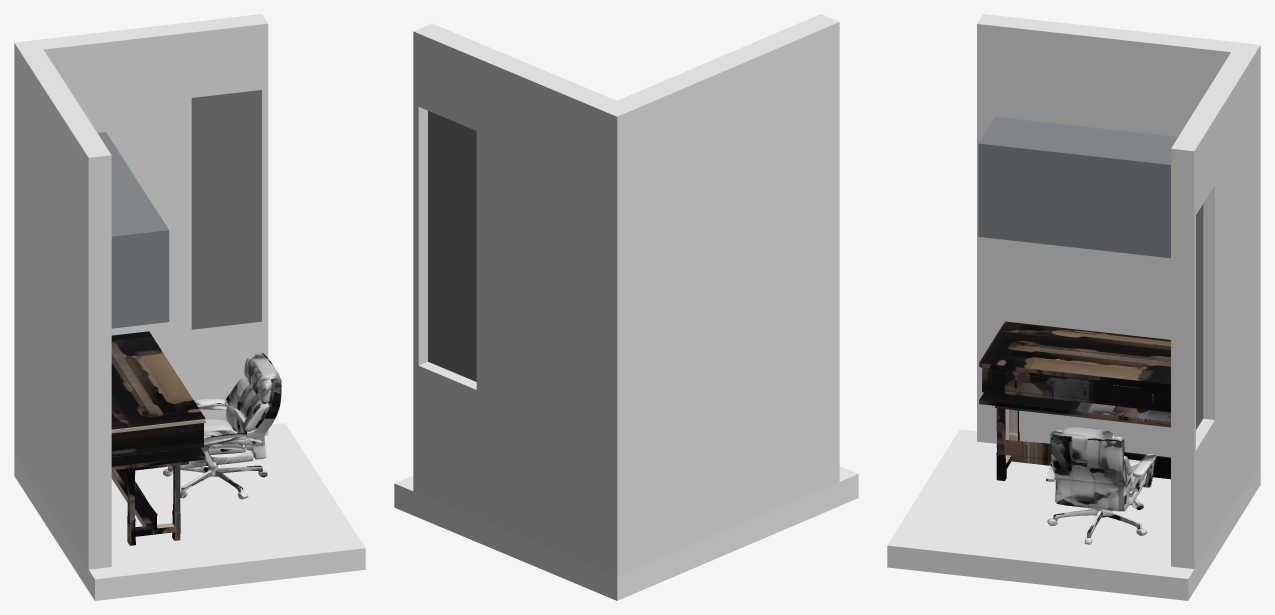
3 renders of one model, left to right at view 1: azimuth 30°, elevation 25°; view 2: azimuth 150°, elevation 25°; view 3: azimuth 270°, elevation 25°, orthographic. The views are drawn at different scales.
Visible parts, largest first — view 1: Wall0_1, Wall1_1, Floor0_1, Window0_1, Mesh_2, Storage0_1, Mesh_1; view 2: Wall0_1, Wall1_1, Window0_1, Floor0_1; view 3: Wall0_1, Wall1_1, Floor0_1, Storage0_1, Mesh_2, Mesh_1, Window0_1.
Part boxes in pixels (bbox=[...]): Wall0_1: bbox=[14, 40, 111, 569]; Wall1_1: bbox=[37, 14, 268, 435]; Floor0_1: bbox=[14, 423, 365, 600]; Window0_1: bbox=[191, 90, 261, 329]; Mesh_2: bbox=[111, 331, 205, 545]; Storage0_1: bbox=[97, 132, 169, 328]; Mesh_1: bbox=[163, 352, 281, 499]; Wall0_1: bbox=[598, 14, 839, 576]; Wall1_1: bbox=[413, 23, 616, 568]; Window0_1: bbox=[428, 111, 476, 381]; Floor0_1: bbox=[394, 466, 858, 600]; Wall0_1: bbox=[977, 14, 1260, 471]; Wall1_1: bbox=[1171, 52, 1254, 568]; Floor0_1: bbox=[887, 429, 1260, 600]; Storage0_1: bbox=[978, 116, 1177, 258]; Mesh_2: bbox=[979, 321, 1170, 480]; Mesh_1: bbox=[1046, 427, 1156, 544]; Window0_1: bbox=[1196, 204, 1203, 429].
Bounding box in the file's own units: 2.34 × 3.2 × 2.47.
Materials: 7 (2 with a texture image).
